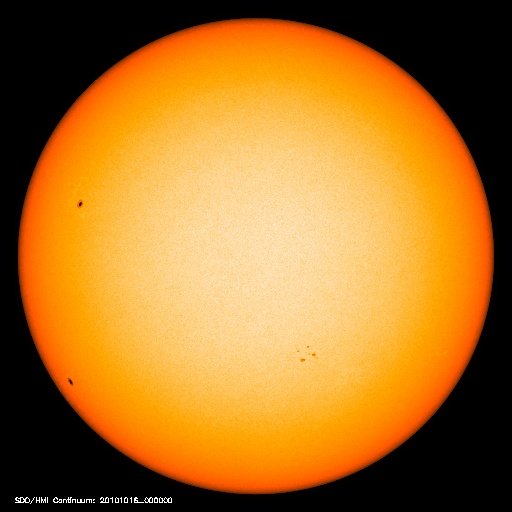sunspot: (289, 338, 327, 369), (59, 370, 83, 394), (69, 193, 94, 216)
